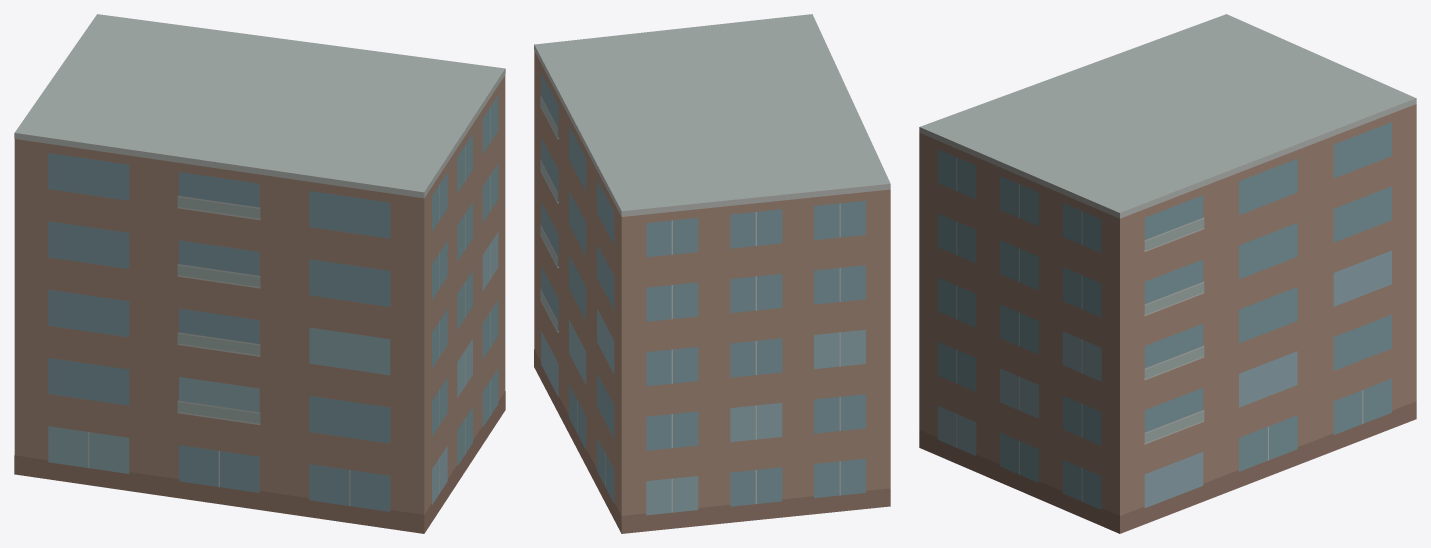
File: survey-upis-32815256.glb
3 renders of one model, left to right at view 1: azimuth 30°, elevation 25°; view 2: azimuth 150°, elevation 25°; view 3: azimuth 270°, elevation 25°, orthographic. The views are drawn at different scales.
Visible parts, largest first — view 1: survey-upis-32815256.tmp; view 2: survey-upis-32815256.tmp; view 3: survey-upis-32815256.tmp.
Boxes of the visible parts, <box> form: survey-upis-32815256.tmp: <box>14,14,505,533</box>; survey-upis-32815256.tmp: <box>534,14,890,533</box>; survey-upis-32815256.tmp: <box>919,14,1416,533</box>.
Size of the model in its own units: 18.37 by 13.8 by 19.39.
